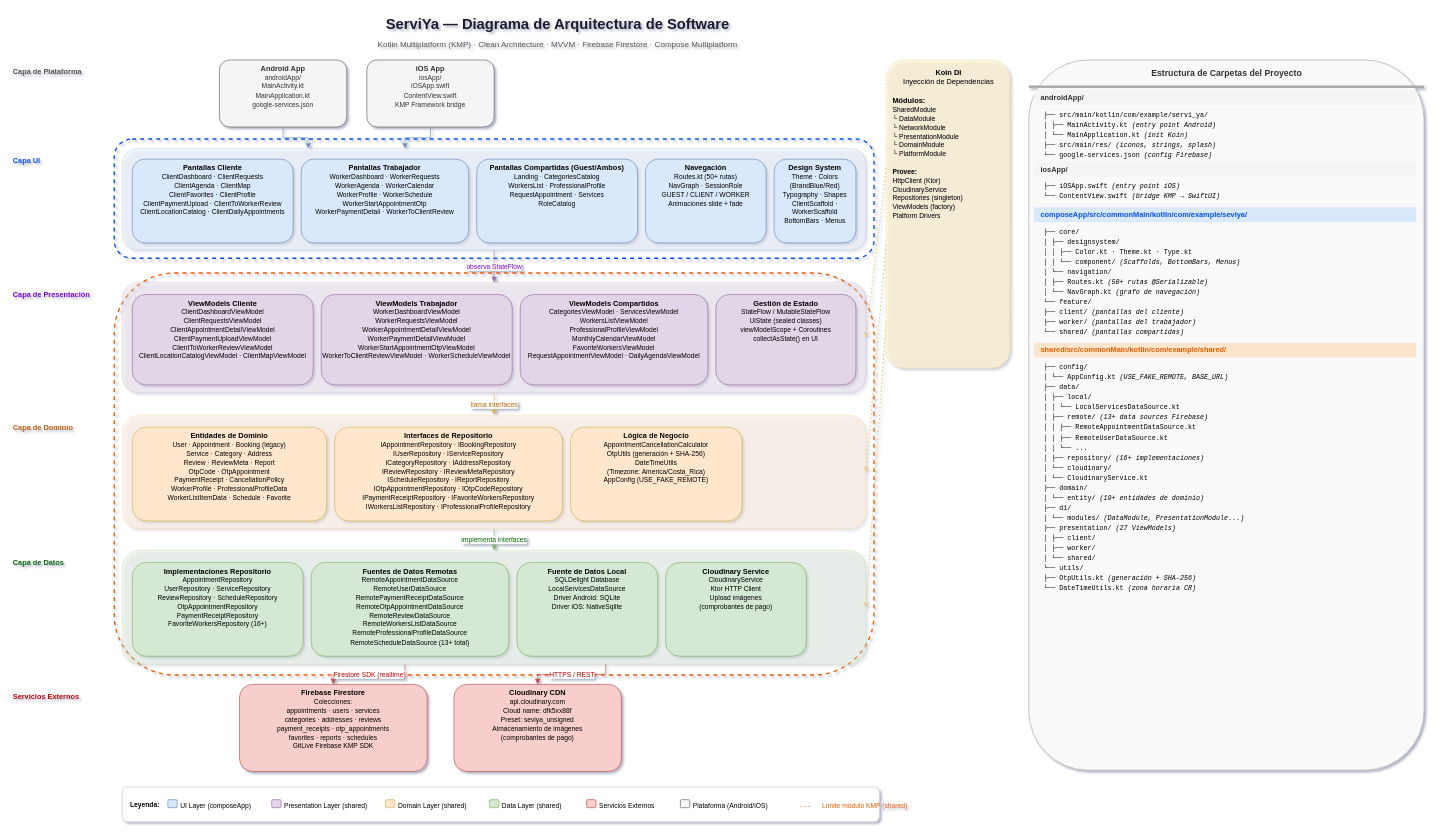
Image size: 1441x838. Some labels were removed from this diagram. The box of each missing label's shape, as (x1, y1, x2, y2) in pixels:
composeApp/ — Compose Multiplatform UI: (113, 138, 874, 259)
shared/ — Kotlin Multiplatform · Código compartido Android & iOS: (113, 272, 874, 675)
